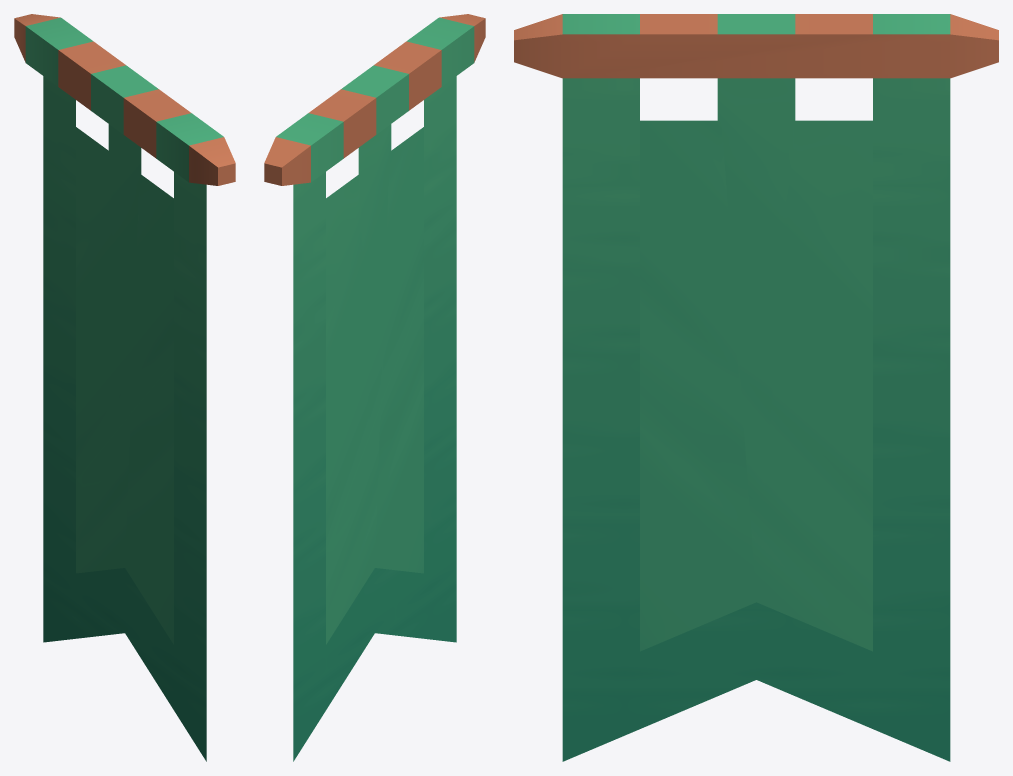
The model's file is bannerGreen.fbx.
3 renders of one model, left to right at view 1: azimuth 30°, elevation 25°; view 2: azimuth 150°, elevation 25°; view 3: azimuth 270°, elevation 25°, orthographic. The views are drawn at different scales.
Parts seen in each view (by area): view 1: bannerGreen; view 2: bannerGreen; view 3: bannerGreen.
Boxes of the visible parts, x1,y1,x2,y2 form: bannerGreen: (14,14,235,761); bannerGreen: (264,14,485,761); bannerGreen: (514,14,998,761).
Size of the model in its own units: 0.05 by 0.5 by 0.8394.
